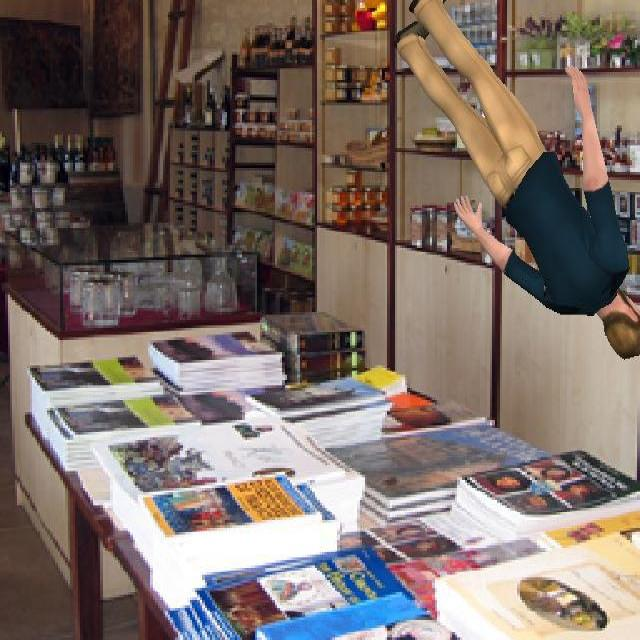obstacle: (390, 0, 640, 364)
